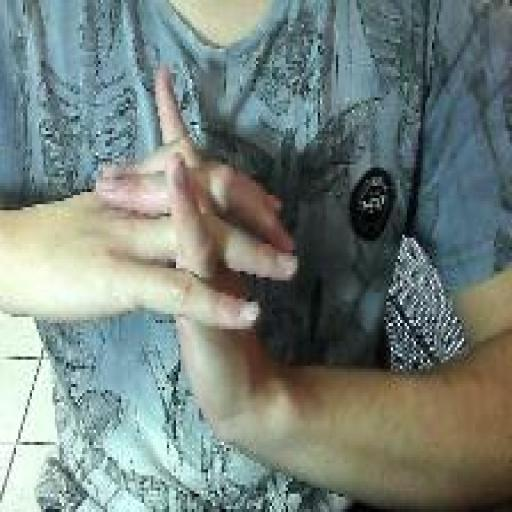Ushi -ox-: (91, 64, 302, 451)
